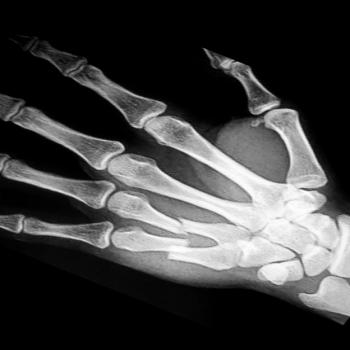Fracture: (172, 210, 192, 238), (162, 245, 184, 270)
